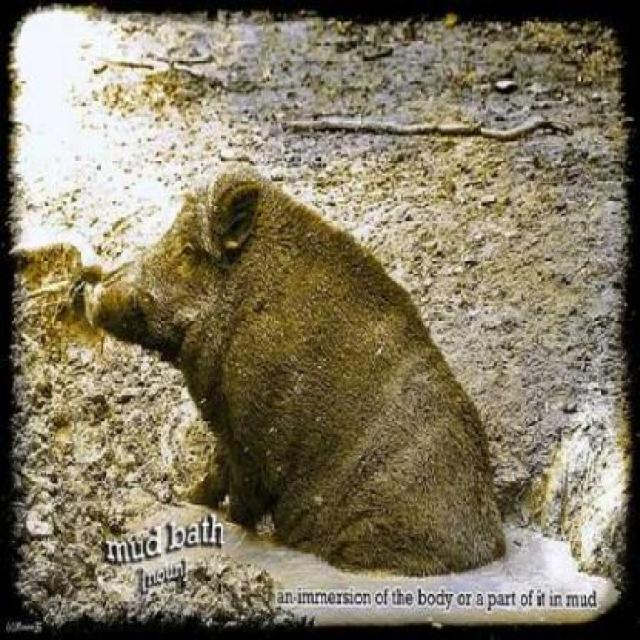pig: (37, 131, 551, 635)
